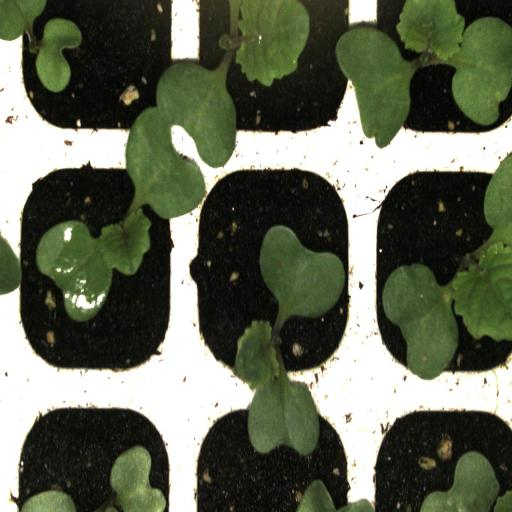seedling: (4, 164, 189, 386), (189, 162, 366, 394), (369, 161, 512, 390), (188, 0, 367, 162), (366, 0, 512, 155)
weak: (2, 0, 192, 159)
